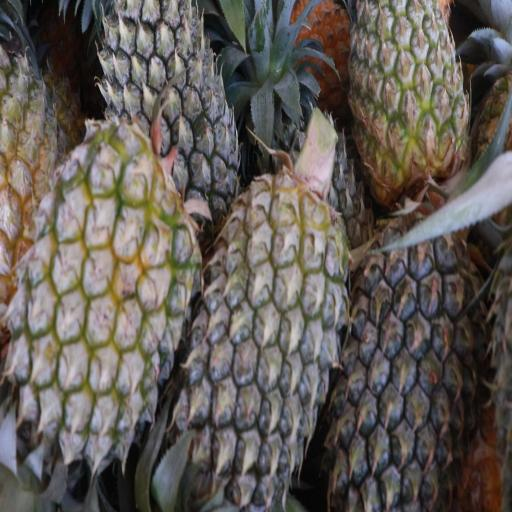------------------------------: (20, 136, 190, 464), (347, 0, 467, 192)
